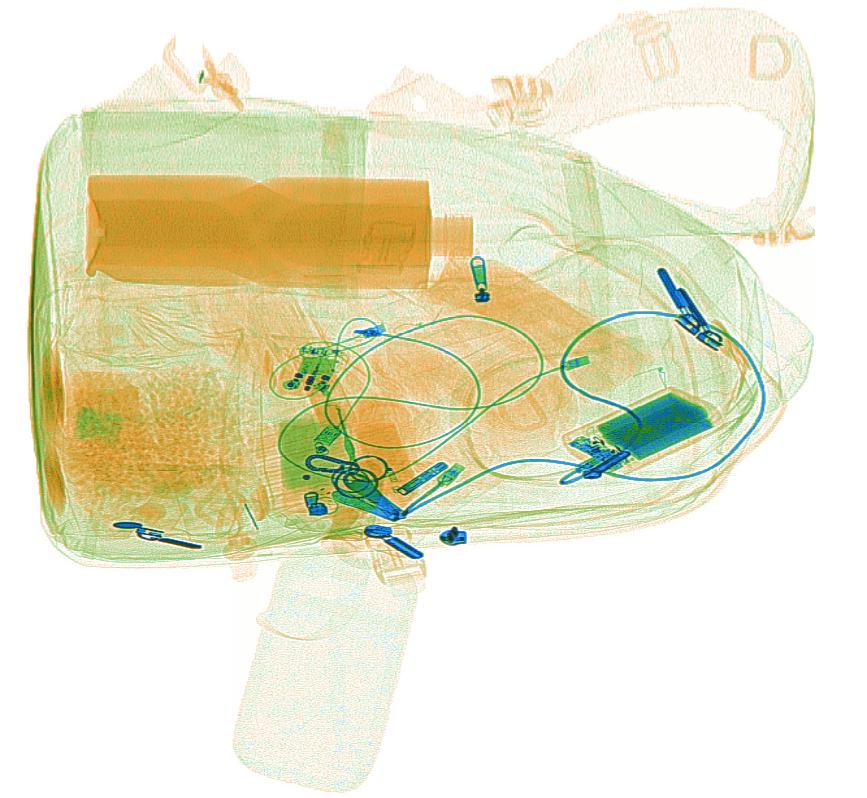plasticBottleWithaNozzle: (349, 415, 422, 523)
